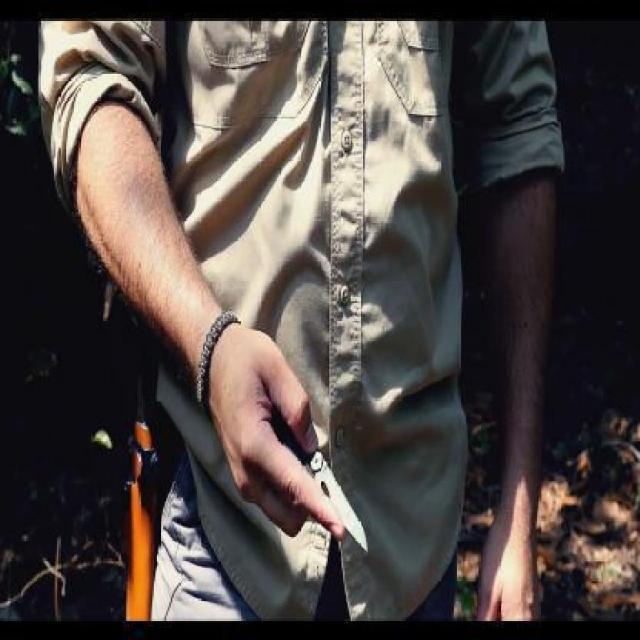-: (225, 366, 374, 562)
